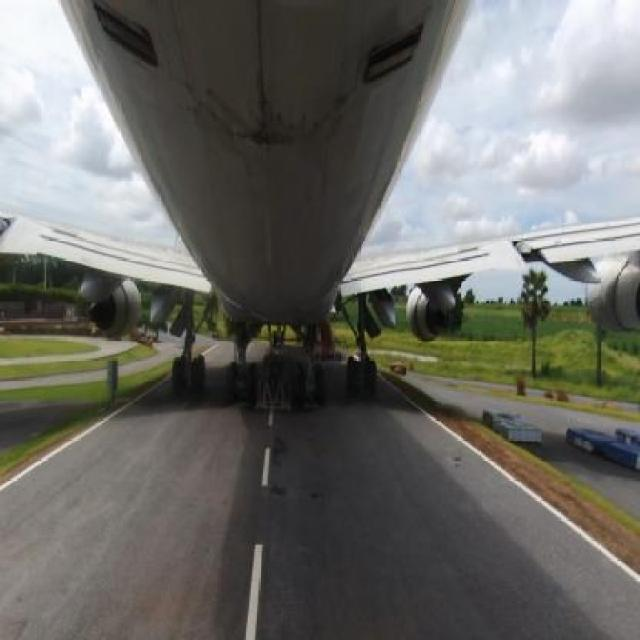Scartch: (176, 58, 364, 162)
